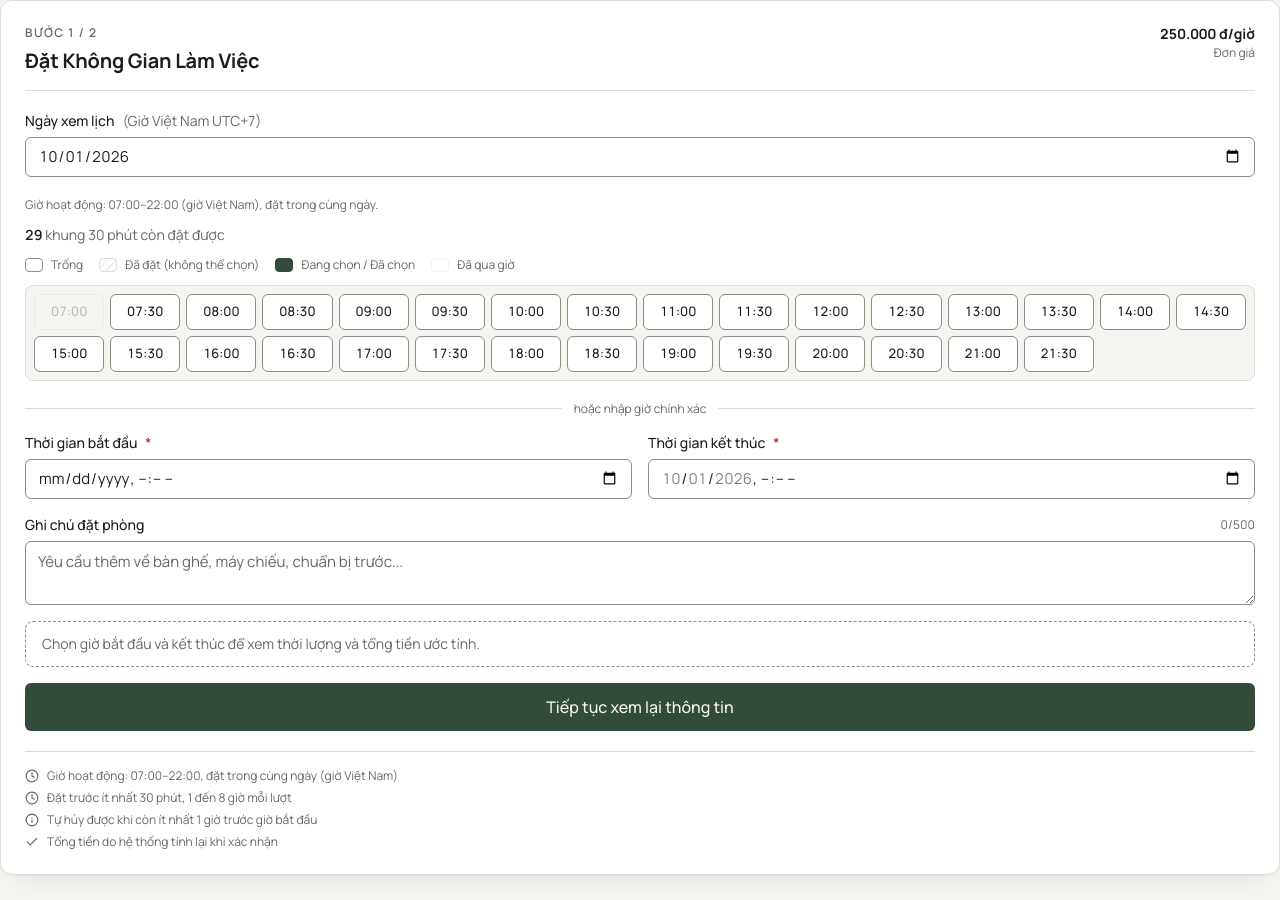
Scenario: BookingForm › Form Validation & Price Preview › shows estimated price preview for valid start and end times
Type "2026-10-25T10:00" into the field labelled "Thời gian bắt đầu *". click: coordinates (328, 479)
box: [25,459,632,499]
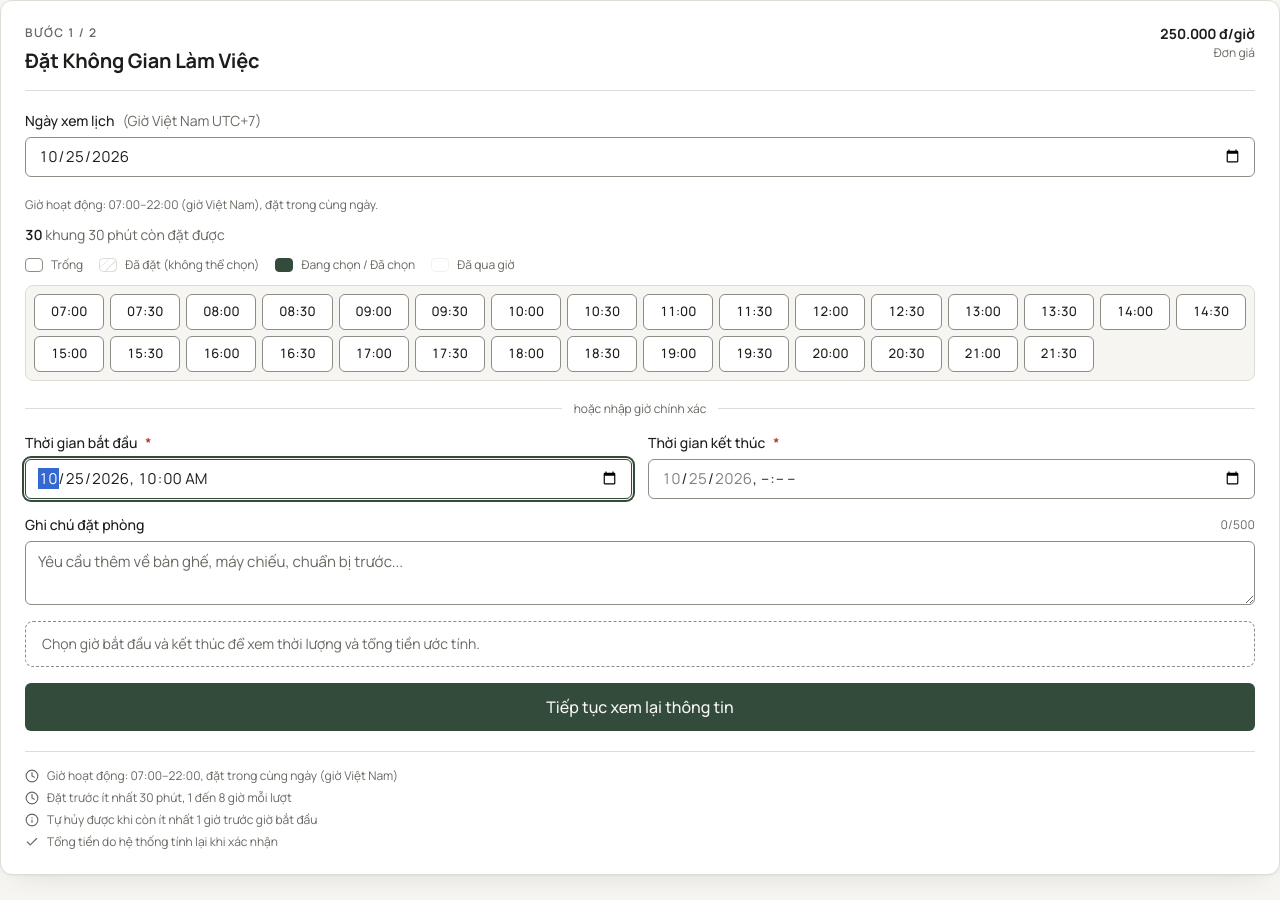
Type "2026-10-25T12:00" into the field labelled "Thời gian kết thúc *". click: coordinates (952, 479)
box: [648,459,1255,499]
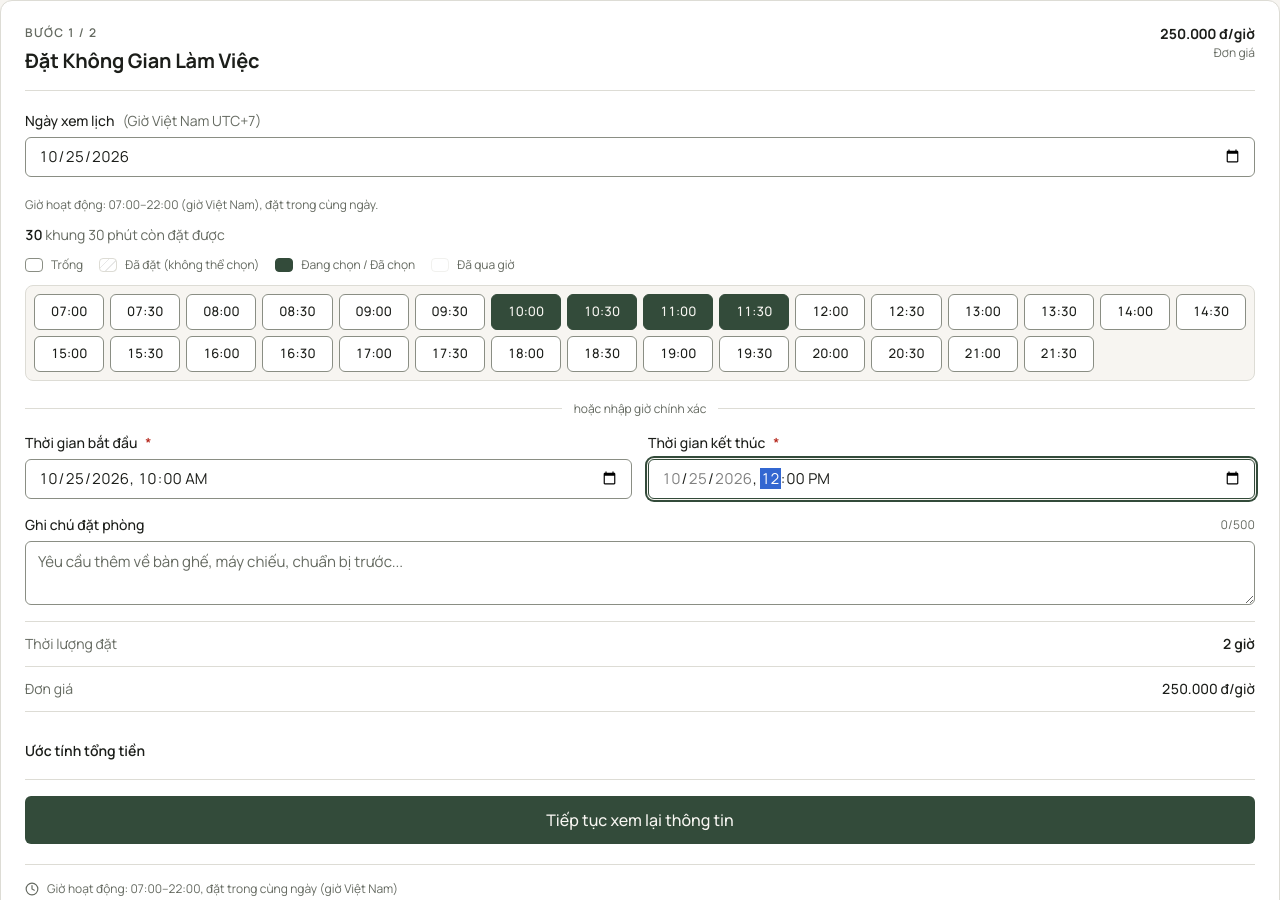
Expected: the element with test id "booking-price-preview" is shown, [25,621,1255,780]
Expected: the text "2 giờ" is shown, [1223,634,1255,653]
